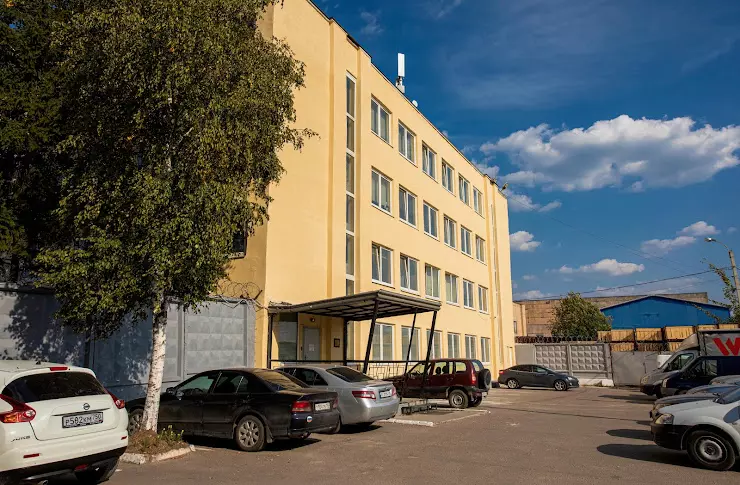Car: (127, 368, 339, 452), (0, 360, 128, 485), (277, 365, 400, 432), (651, 387, 740, 471), (639, 329, 740, 398), (381, 358, 491, 409), (661, 356, 740, 395), (649, 387, 740, 420), (498, 364, 579, 392), (685, 384, 738, 394), (708, 375, 740, 385), (720, 377, 740, 387)
